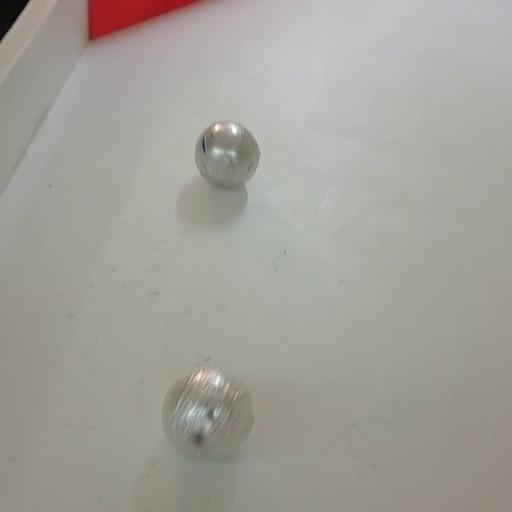alive: (159, 363, 259, 463), (192, 118, 264, 189)
